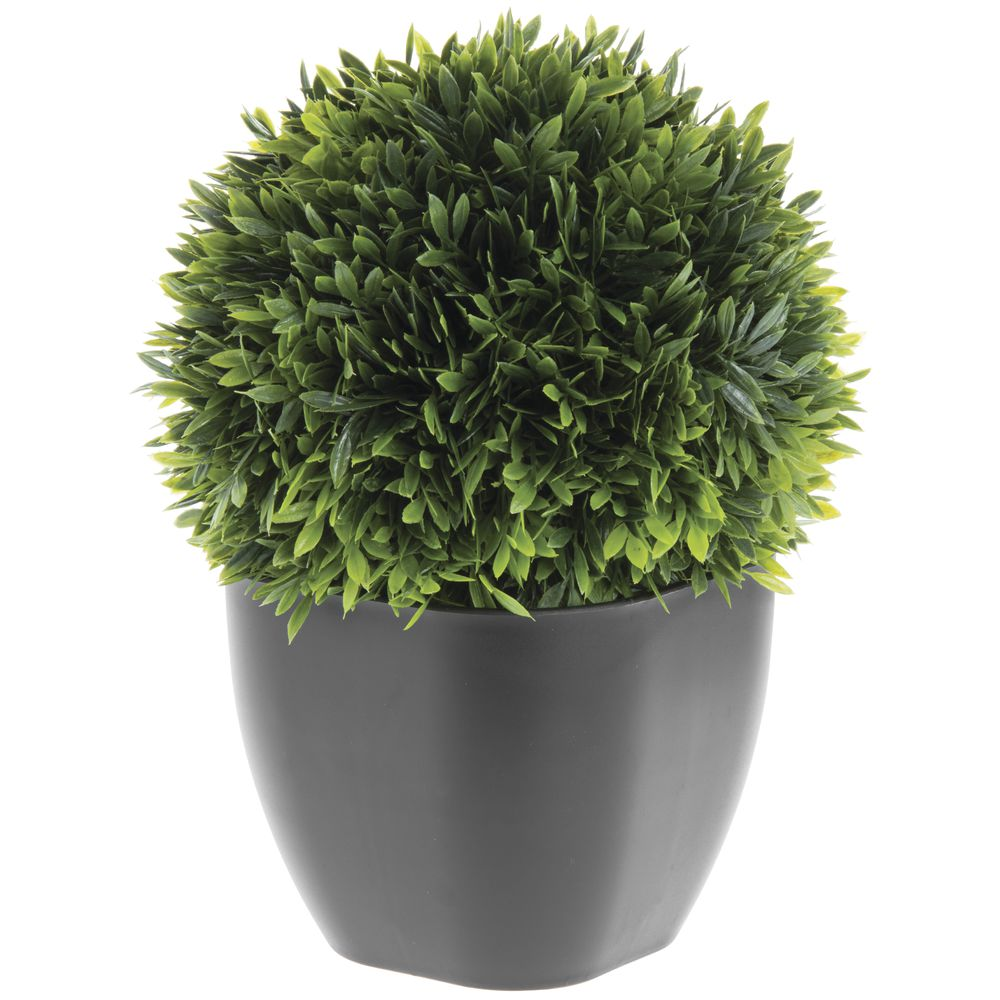tanaman: (148, 8, 868, 977)
